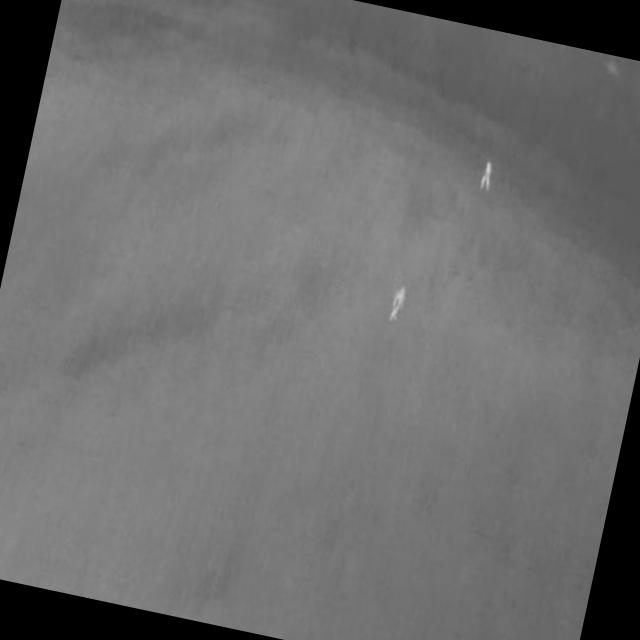person: (388, 287, 408, 326), (478, 160, 496, 193)
